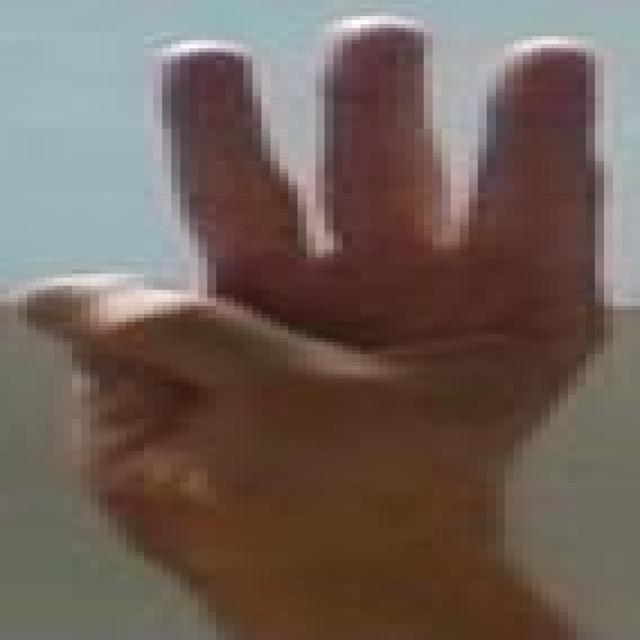W: (0, 0, 635, 555)
